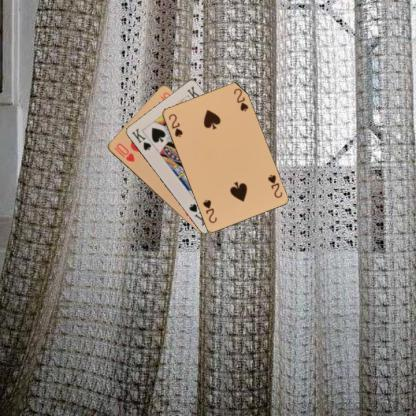10h: (112, 140, 136, 164)
2s: (264, 172, 284, 198), (166, 111, 184, 138)
Ks: (128, 125, 152, 152)
